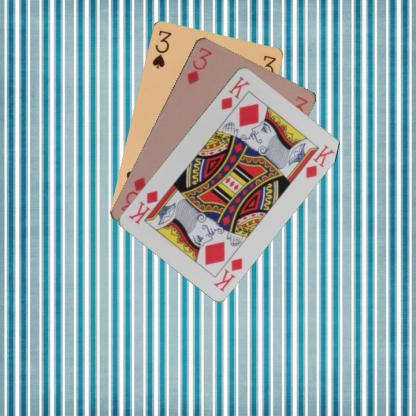3d: (184, 44, 213, 85)
3s: (149, 27, 172, 70)
Kd: (218, 73, 251, 111), (211, 255, 244, 293)
